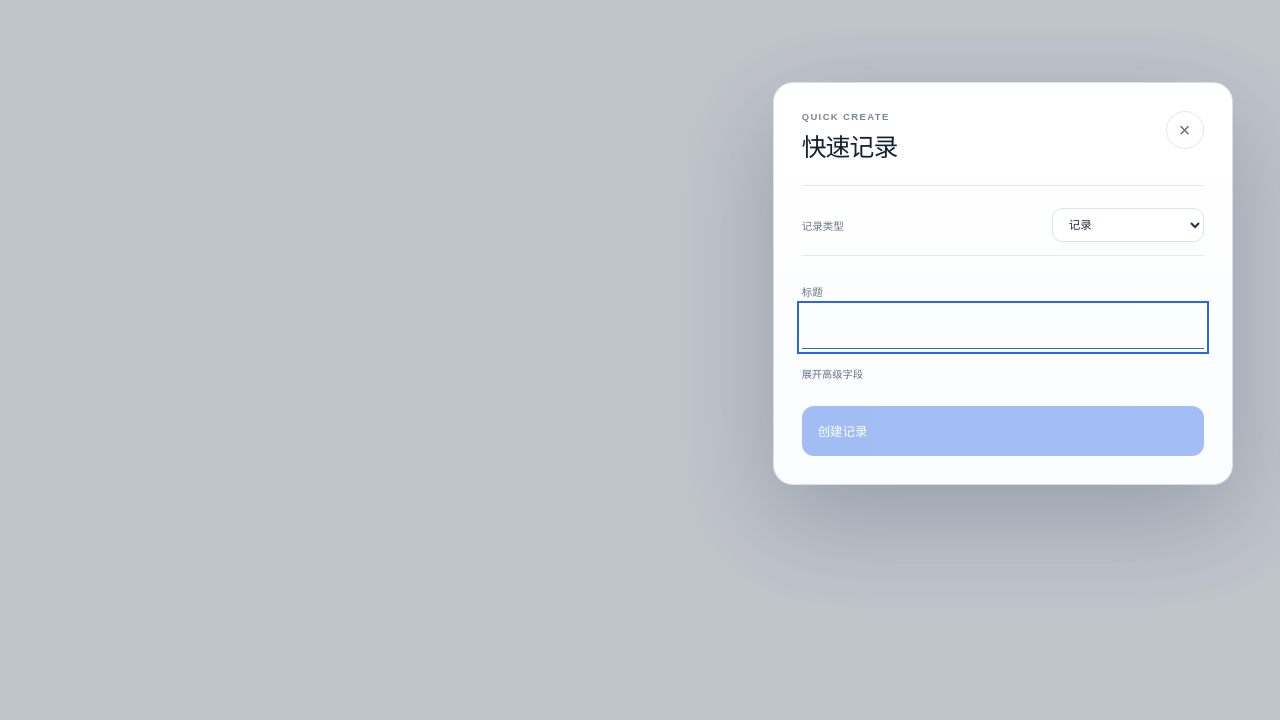
Test: QuickCreate › does not offer undo after the result undo window has expired
Type "过期撤销窗口" into the field labelled "标题". click: [1003, 328]
box: [802,306,1204,349]
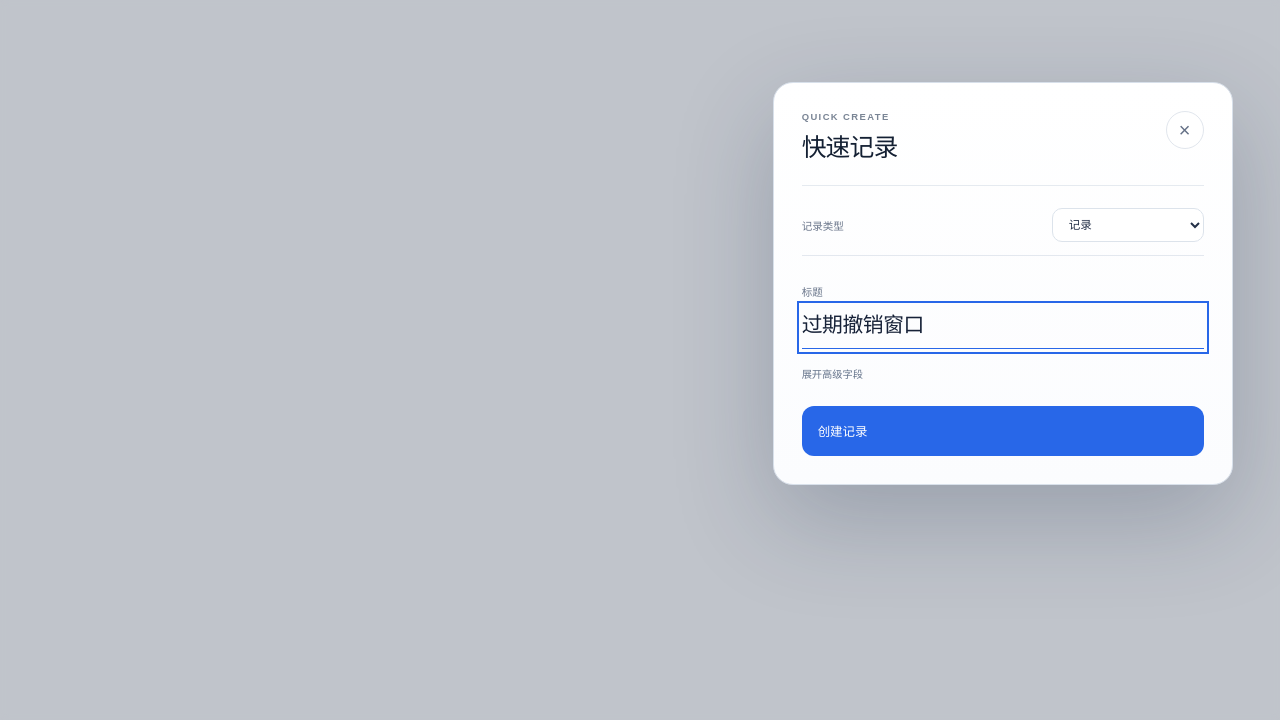
Click the button "创建记录". click: [843, 432]
box: [802,406,1204,456]
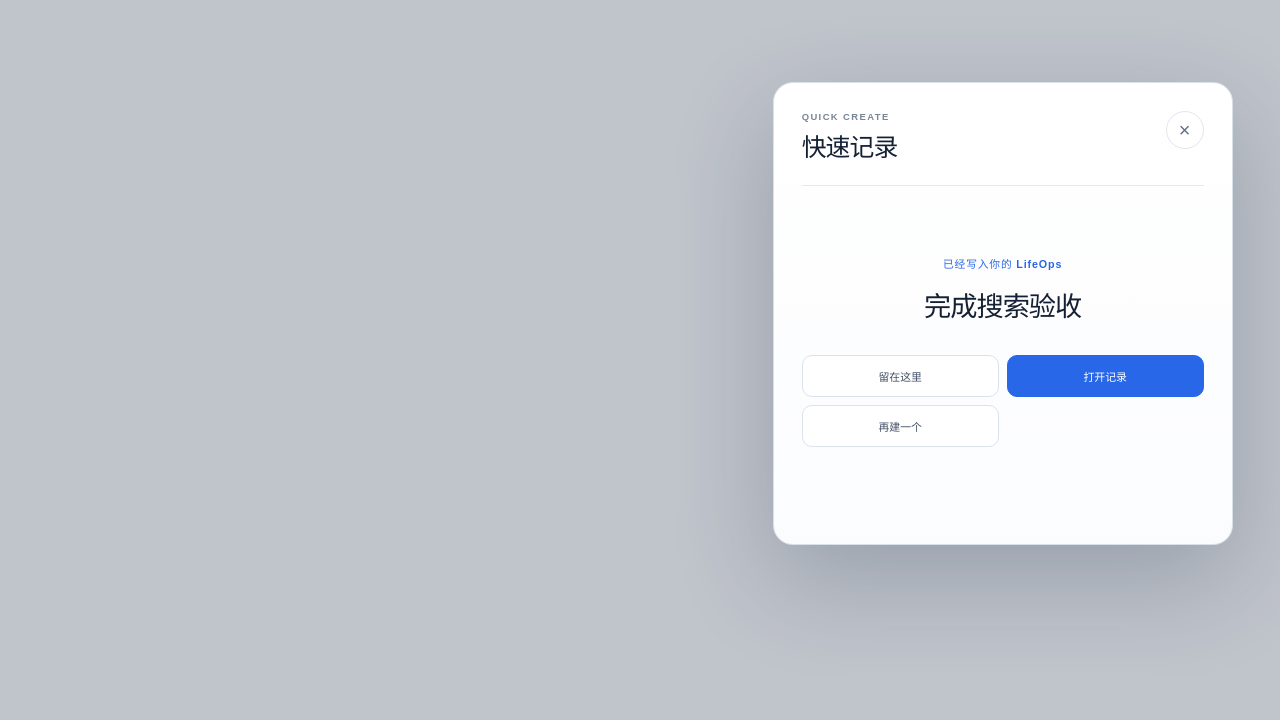
Expected: the button "撤销" is not shown
Now the message named "创建成功" is shown, box [802,258,1204,446]
